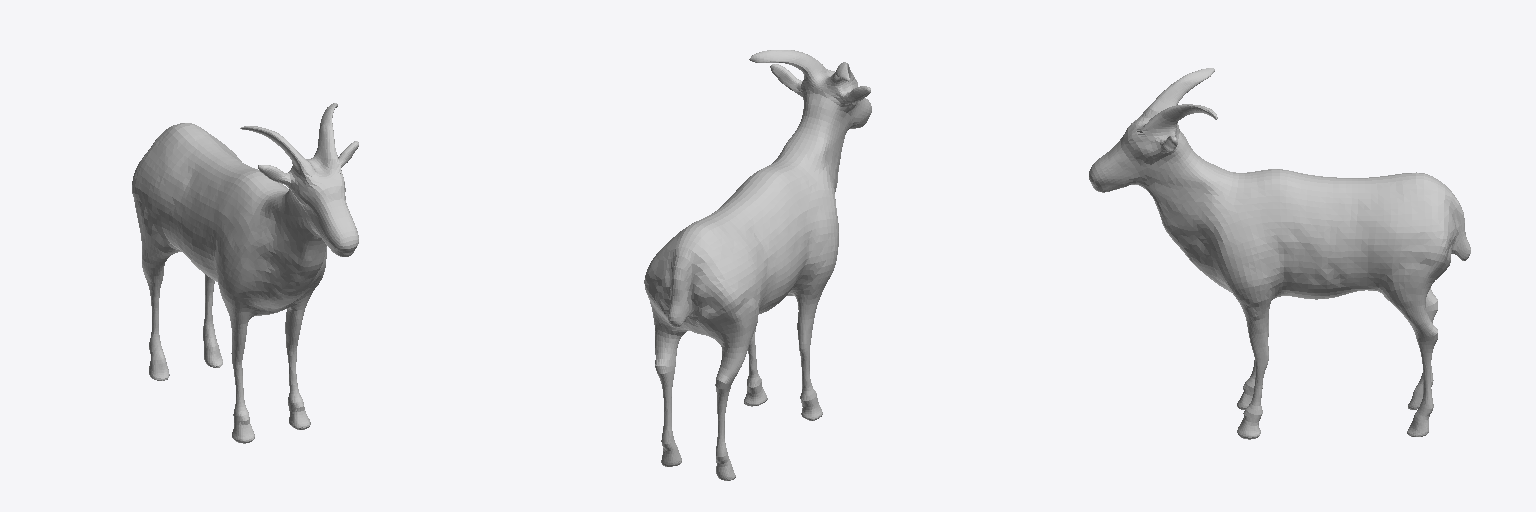
Rendered from Goat_Quad.obj.
3 renders of one model, left to right at view 1: azimuth 30°, elevation 25°; view 2: azimuth 150°, elevation 25°; view 3: azimuth 270°, elevation 25°, orthographic.
Parts seen in each view (by area): view 1: Goat_Quad; view 2: Goat_Quad; view 3: Goat_Quad.
Part boxes in pixels (left/top/right/bottom): Goat_Quad: left=132, top=103, right=358, bottom=443; Goat_Quad: left=644, top=50, right=871, bottom=480; Goat_Quad: left=1089, top=68, right=1470, bottom=439.
Size of the model in its own units: 0.2908 by 0.9291 by 0.9598.